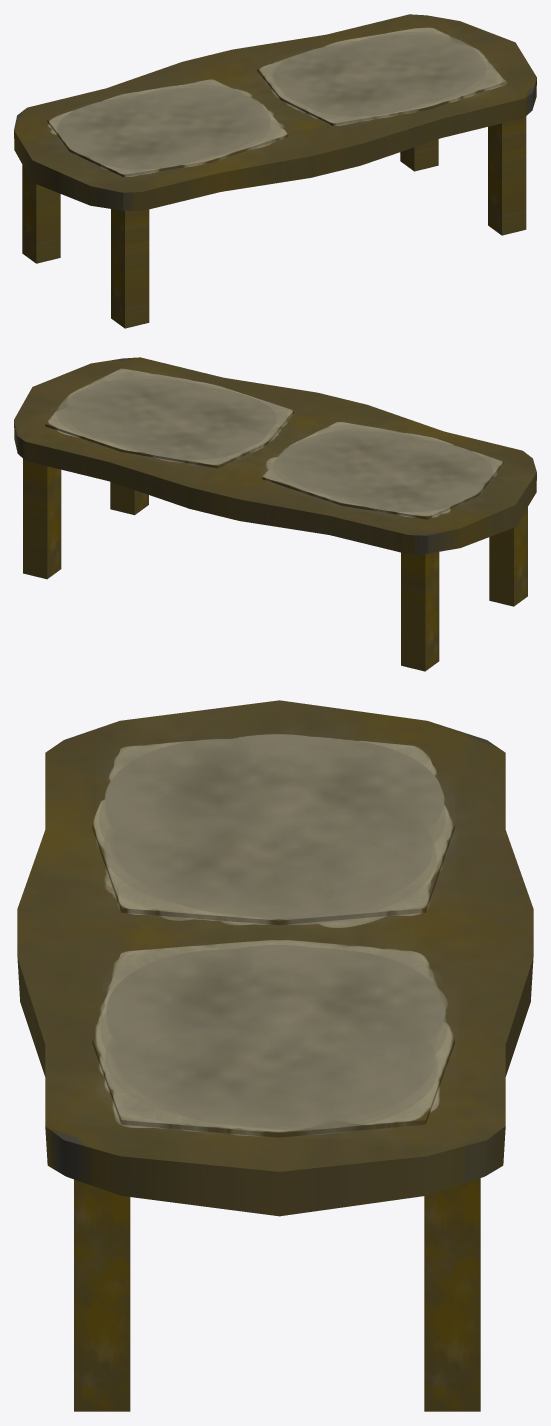
Rendered from 3Dmodel_MarbleCoolingPlate_V1_BS.fbx.
The picture shows the model from 3 angles, top to bottom: view 1: azimuth 30°, elevation 25°; view 2: azimuth 150°, elevation 25°; view 3: azimuth 270°, elevation 25°; orthographic projection. The views are drawn at different scales.
Parts seen in each view (by area): view 1: polySurface3; view 2: polySurface3; view 3: polySurface3.
Part boxes in pixels (bbox=[...]): polySurface3: bbox=[14, 14, 536, 328]; polySurface3: bbox=[14, 357, 536, 671]; polySurface3: bbox=[17, 700, 533, 1411].
Size of the model in its own units: 5.93 by 1.66 by 2.74.
Materials: 1 (1 with a texture image).
